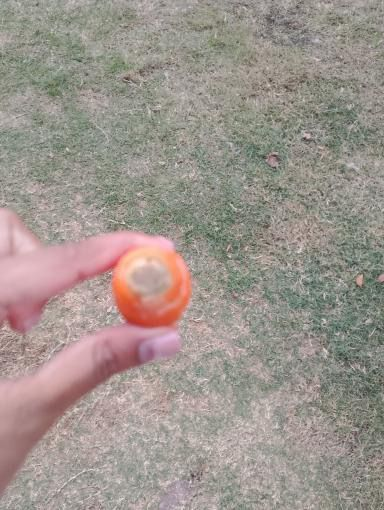carrot: (111, 239, 200, 331)
